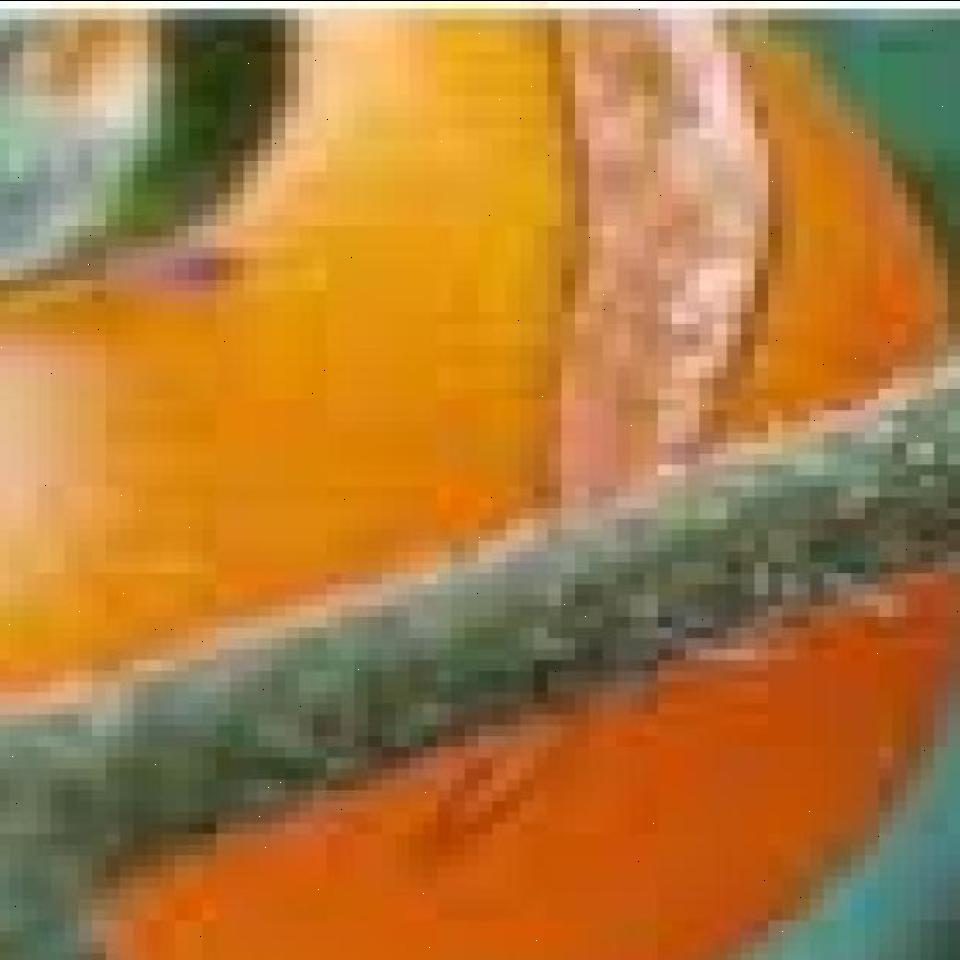Cracking: (472, 0, 785, 868)
